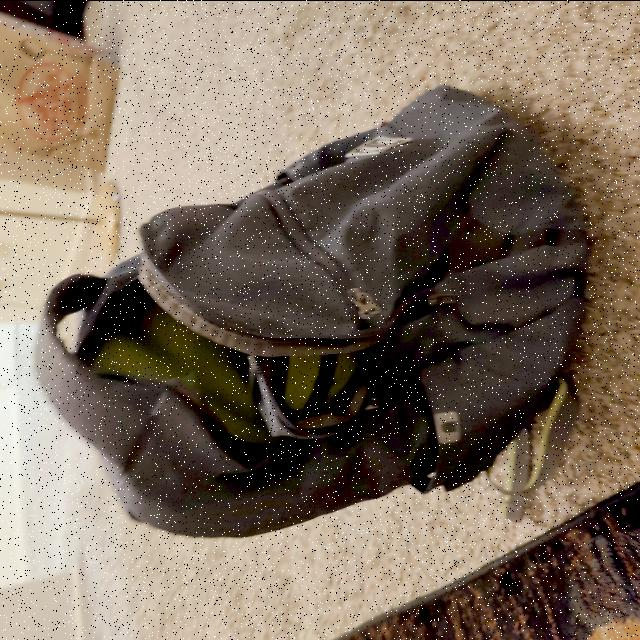bag: (46, 92, 561, 512)
